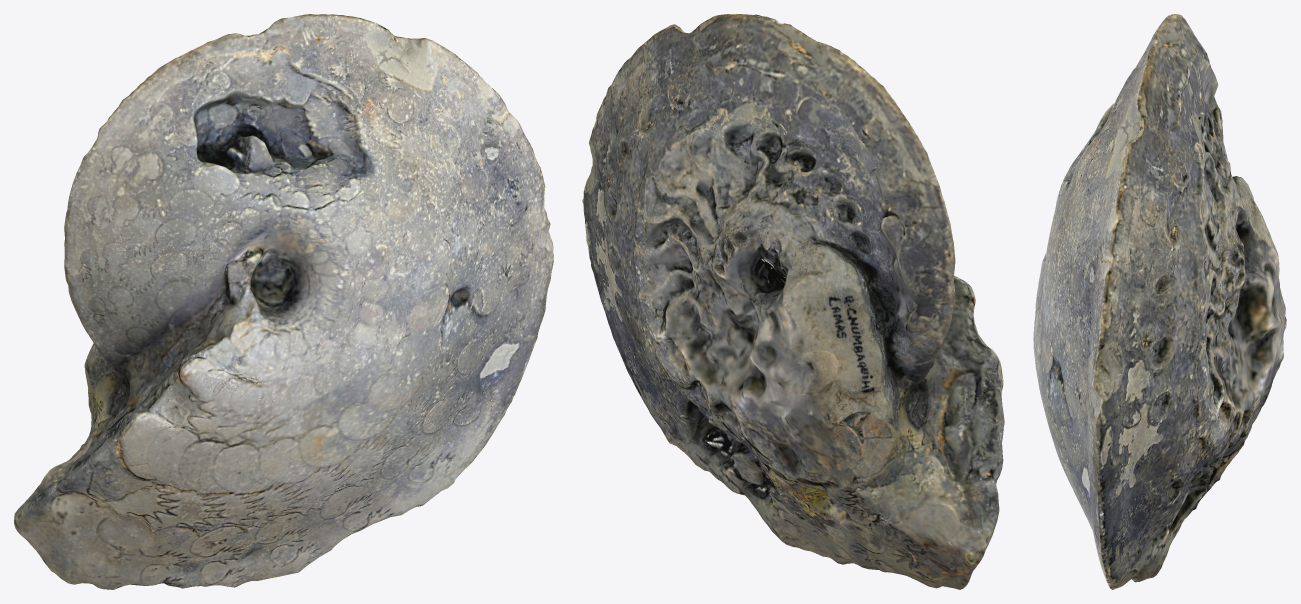
Rendered from fossilizedAmmonite.glb.
3 views of the same model, side by side, from view 1: azimuth 30°, elevation 25°; view 2: azimuth 150°, elevation 25°; view 3: azimuth 270°, elevation 25° (orthographic). The views are drawn at different scales.
Visible parts, largest first — view 1: default_bien07_0; view 2: default_bien07_0; view 3: default_bien07_0.
Part boxes in pixels (bbox=[...]): default_bien07_0: bbox=[14, 14, 553, 589]; default_bien07_0: bbox=[582, 14, 1004, 589]; default_bien07_0: bbox=[1033, 14, 1286, 589].
Bounding box in the file's own units: 19.39 × 21.43 × 8.97.
Materials: 1 (1 with a texture image).
